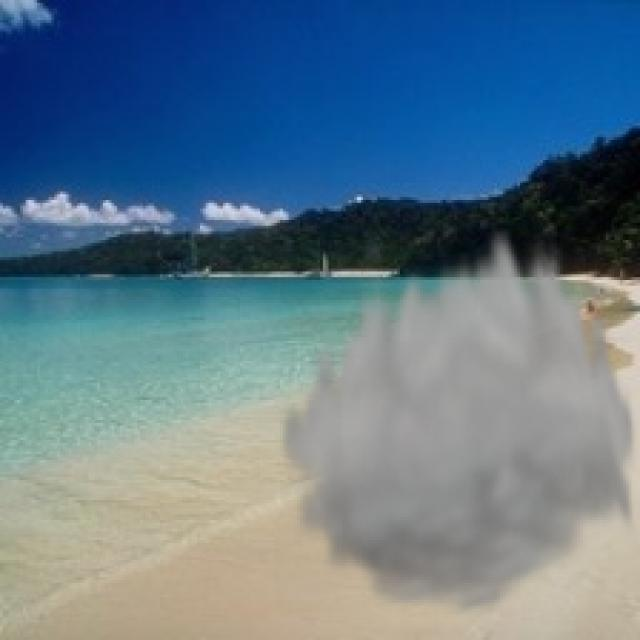Smoke: (274, 214, 637, 626)
